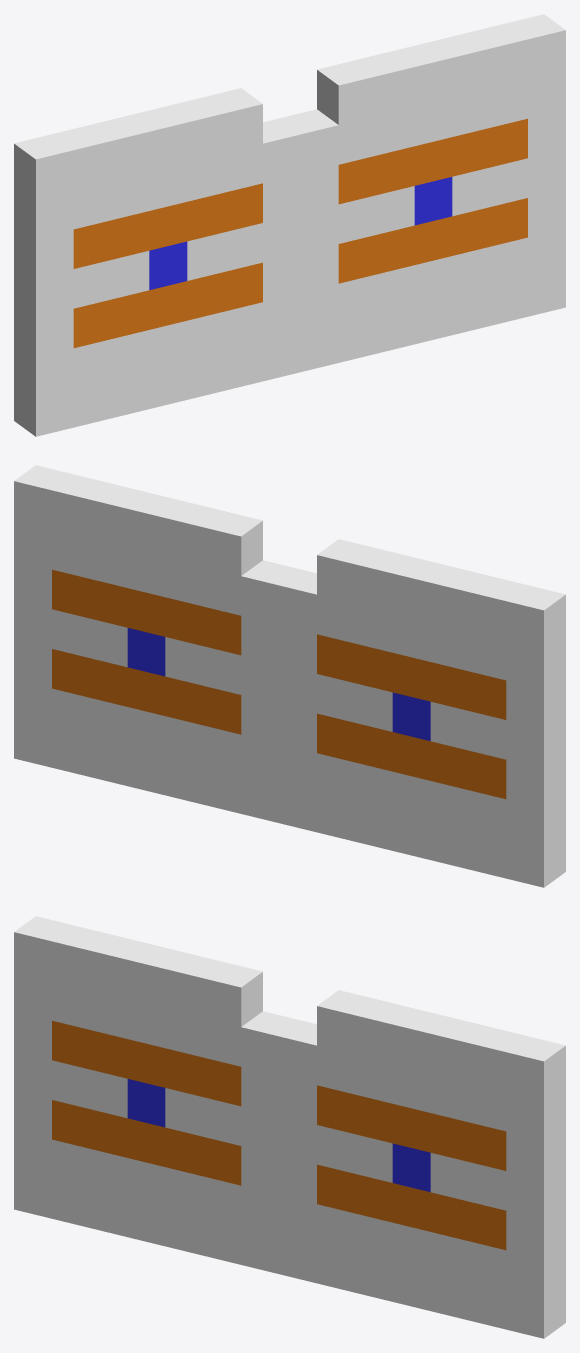
3 views of the same model, one above another, from view 1: azimuth 30°, elevation 25°; view 2: azimuth 150°, elevation 25°; view 3: azimuth 330°, elevation 25° (orthographic).
Visible parts, largest first — view 1: eye-shapes058, eye-shapes018, eye-shapes017; view 2: eye-shapes058, eye-shapes018, eye-shapes017; view 3: eye-shapes058, eye-shapes018, eye-shapes017.
Boxes of the visible parts, left/top/right/bottom form: eye-shapes058: left=14, top=14, right=565, bottom=436; eye-shapes018: left=73, top=118, right=527, bottom=348; eye-shapes017: left=149, top=177, right=452, bottom=290; eye-shapes058: left=14, top=465, right=565, bottom=887; eye-shapes018: left=52, top=569, right=506, bottom=799; eye-shapes017: left=127, top=628, right=430, bottom=741; eye-shapes058: left=14, top=916, right=565, bottom=1338; eye-shapes018: left=52, top=1020, right=506, bottom=1250; eye-shapes017: left=127, top=1079, right=430, bottom=1192.
Size of the model in its own units: 140 by 70 by 10.
3 materials, 3 textured.
